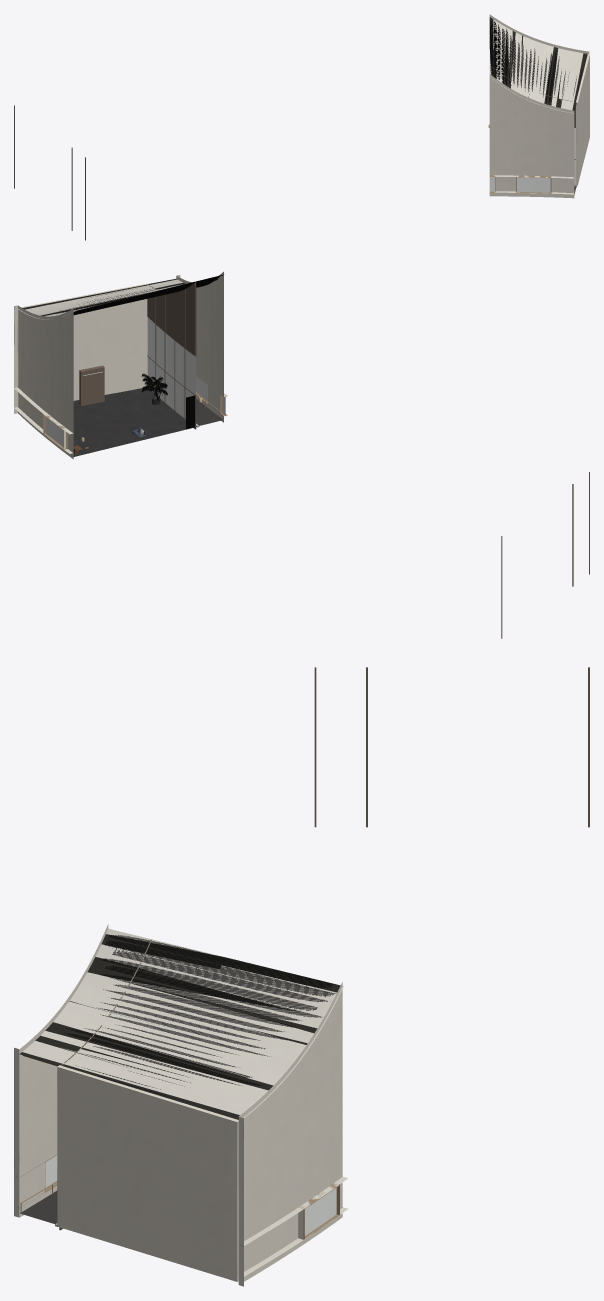
3 views of the same model, one above another, from view 1: azimuth 30°, elevation 25°; view 2: azimuth 150°, elevation 25°; view 3: azimuth 270°, elevation 25° (orthographic). The views are drawn at different scales.
Visible parts, largest first — view 1: c0300, c0300 leaves; view 2: c0300, c0300 leaves; view 3: c0300, c0300 leaves.
Part boxes in pixels (box(x1,y1,x2,y2)): c0300: box(14, 14, 589, 240); c0300 leaves: box(488, 19, 581, 127); c0300: box(14, 271, 589, 638); c0300 leaves: box(45, 275, 221, 441); c0300: box(14, 667, 589, 1286); c0300 leaves: box(23, 935, 334, 1100).
Size of the model in its own units: 79.68 by 19.81 by 42.54.
Materials: 11 (2 with a texture image).
